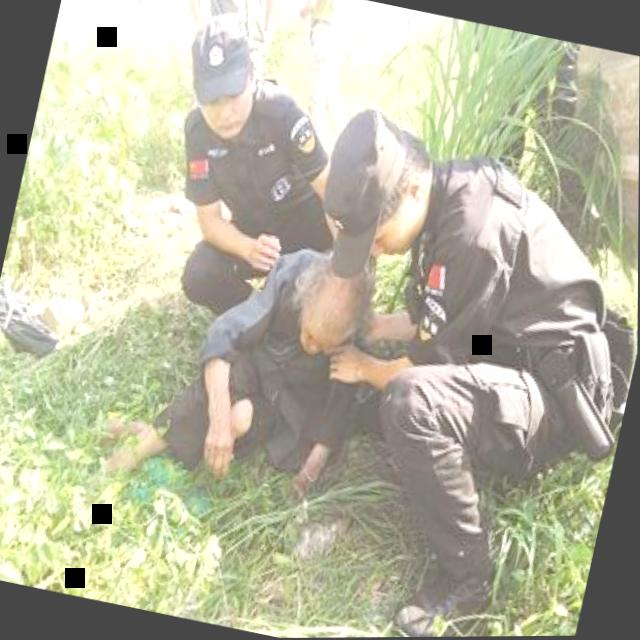Fall-Detected: (96, 191, 410, 556)
